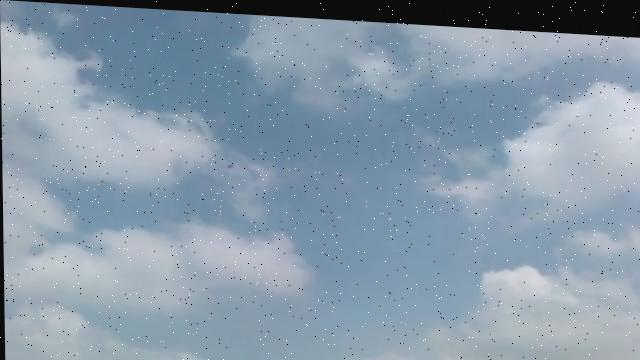drone: (224, 156, 235, 167)
